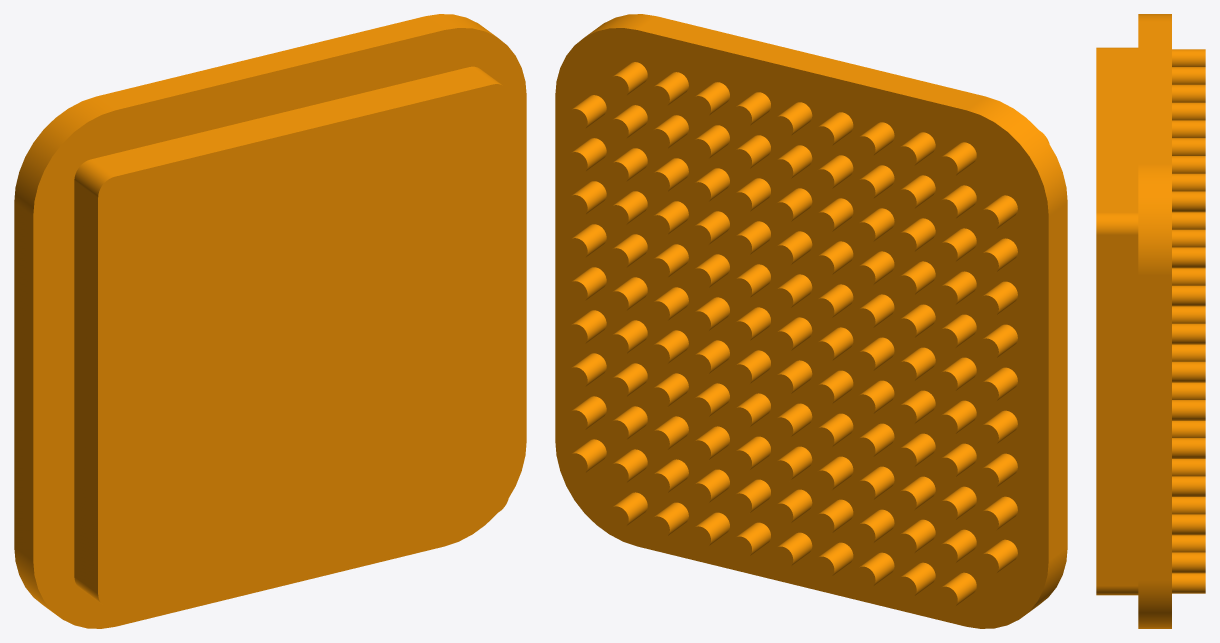
The model's file is CPU.fbx.
3 renders of one model, left to right at view 1: azimuth 30°, elevation 25°; view 2: azimuth 150°, elevation 25°; view 3: azimuth 270°, elevation 25°, orthographic. The views are drawn at different scales.
Visible parts, largest first — view 1: CPU; view 2: CPU; view 3: CPU.
Part boxes in pixels (x1=…): CPU: x1=14, y1=14, x2=526, y2=628; CPU: x1=555, y1=14, x2=1067, y2=628; CPU: x1=1096, y1=14, x2=1205, y2=628.
Size of the model in its own units: 3 by 3 by 0.65.
